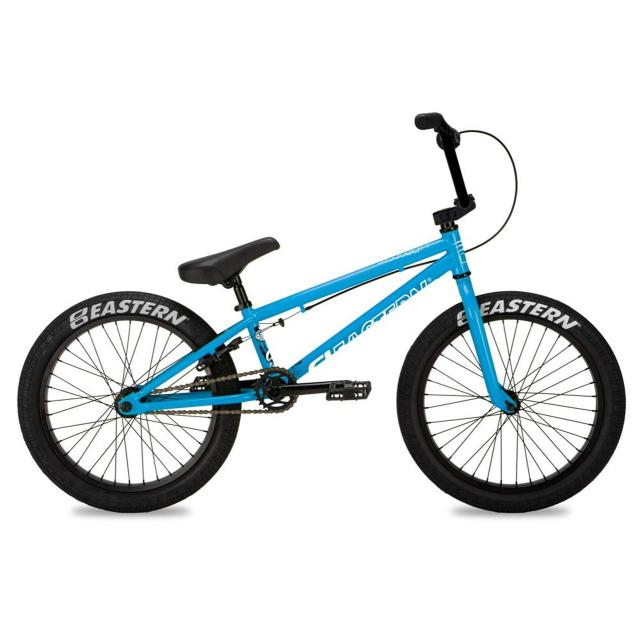bmx-bike: (18, 110, 626, 515)
